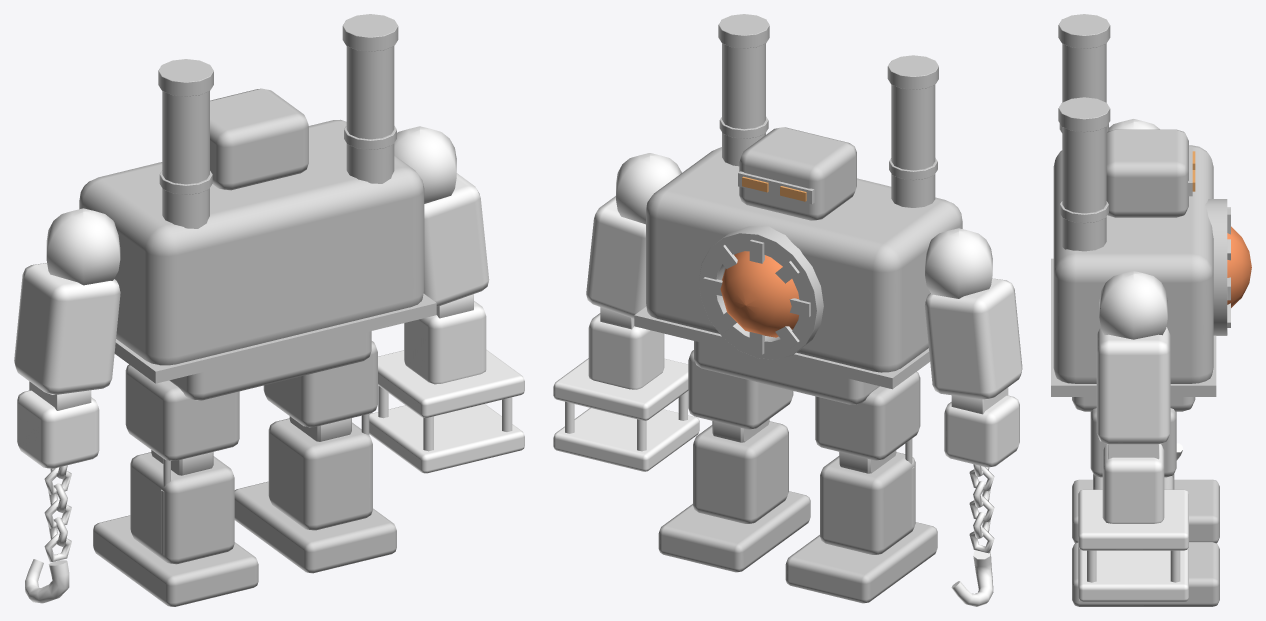
File: IndustrialTitan.glb
3 renders of one model, left to right at view 1: azimuth 30°, elevation 25°; view 2: azimuth 150°, elevation 25°; view 3: azimuth 270°, elevation 25°, orthographic. The views are drawn at different scales.
Visible parts, largest first — view 1: Body, ArmR, ArmL; view 2: Body, ArmR, ArmL, Core; view 3: Body, ArmR, Core, ArmL.
Boxes of the visible parts, x1,y1,x2,y2 form: Body: [79, 14, 436, 606]; ArmR: [369, 126, 524, 473]; ArmL: [14, 208, 120, 603]; Body: [634, 14, 962, 603]; ArmR: [553, 153, 699, 471]; ArmL: [924, 228, 1022, 606]; Core: [720, 251, 799, 337]; Body: [1051, 14, 1230, 606]; ArmR: [1078, 271, 1188, 601]; Core: [1227, 226, 1251, 307]; ArmL: [1107, 119, 1182, 460].
Bounding box in the file's own units: 44.71 × 48.42 × 17.93.
